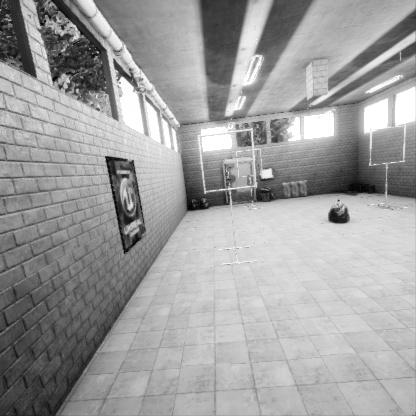gate: (198, 225, 259, 289), (373, 251, 411, 293), (236, 239, 263, 268)
